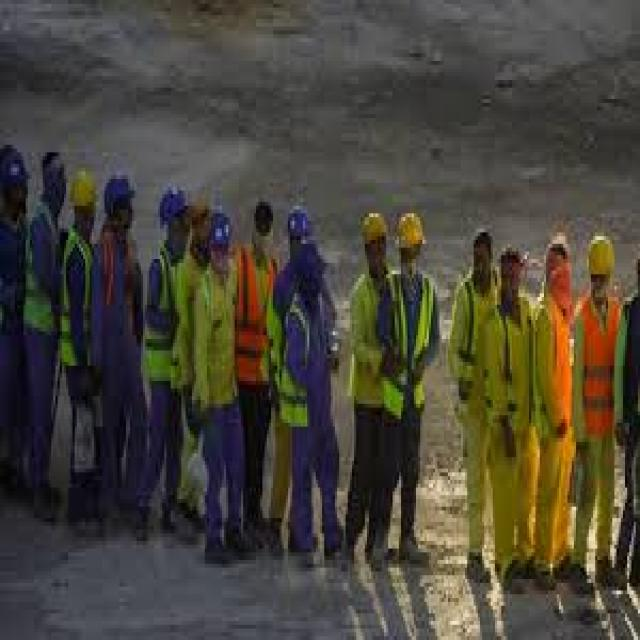Reflective-Jacket: (267, 256, 335, 434), (384, 267, 437, 423), (572, 290, 625, 446), (139, 248, 194, 392), (56, 228, 100, 374)
Safety-Helmet: (582, 224, 619, 286), (66, 164, 100, 221), (0, 141, 34, 198), (154, 179, 192, 229), (202, 202, 236, 255), (394, 206, 428, 255), (282, 202, 320, 244), (542, 225, 574, 270), (358, 205, 388, 248)
